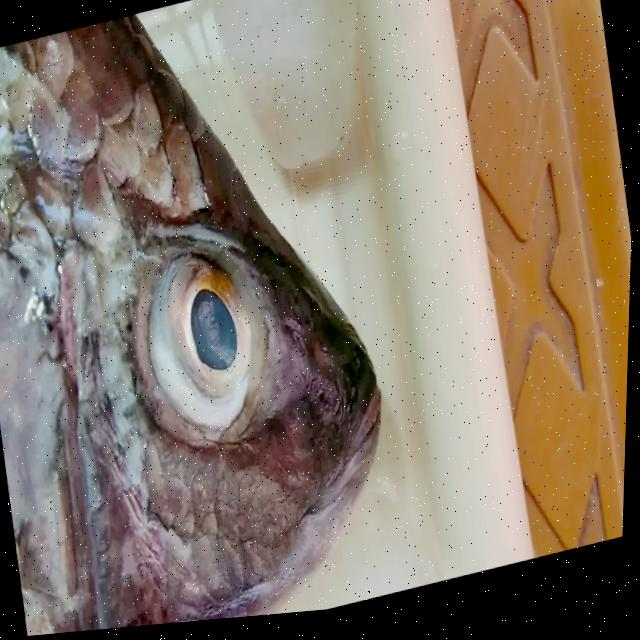Fresh: (90, 140, 327, 508)
